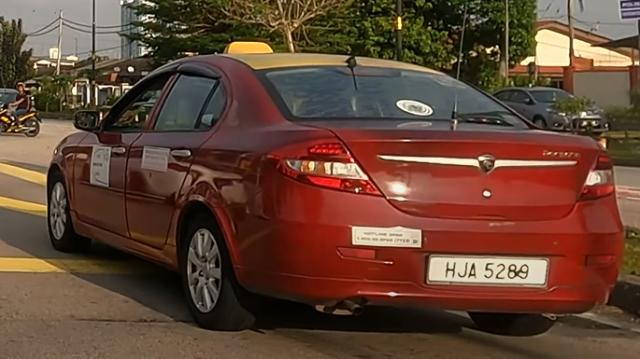License_Plate: (426, 254, 551, 288)
car: (46, 41, 626, 334)
